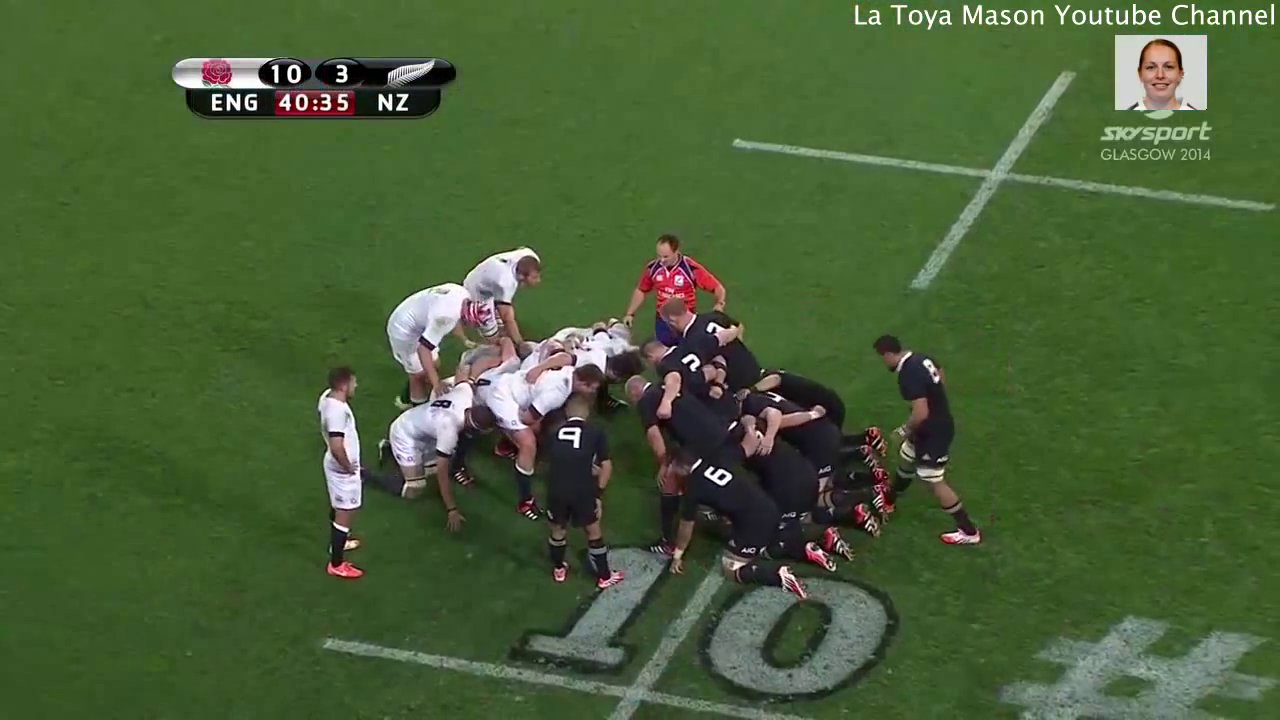player: (867, 330, 987, 550), (658, 458, 803, 594), (536, 400, 636, 594), (304, 357, 380, 587), (390, 277, 502, 406), (624, 235, 728, 317), (469, 244, 560, 315)
scrum: (362, 258, 892, 599)
